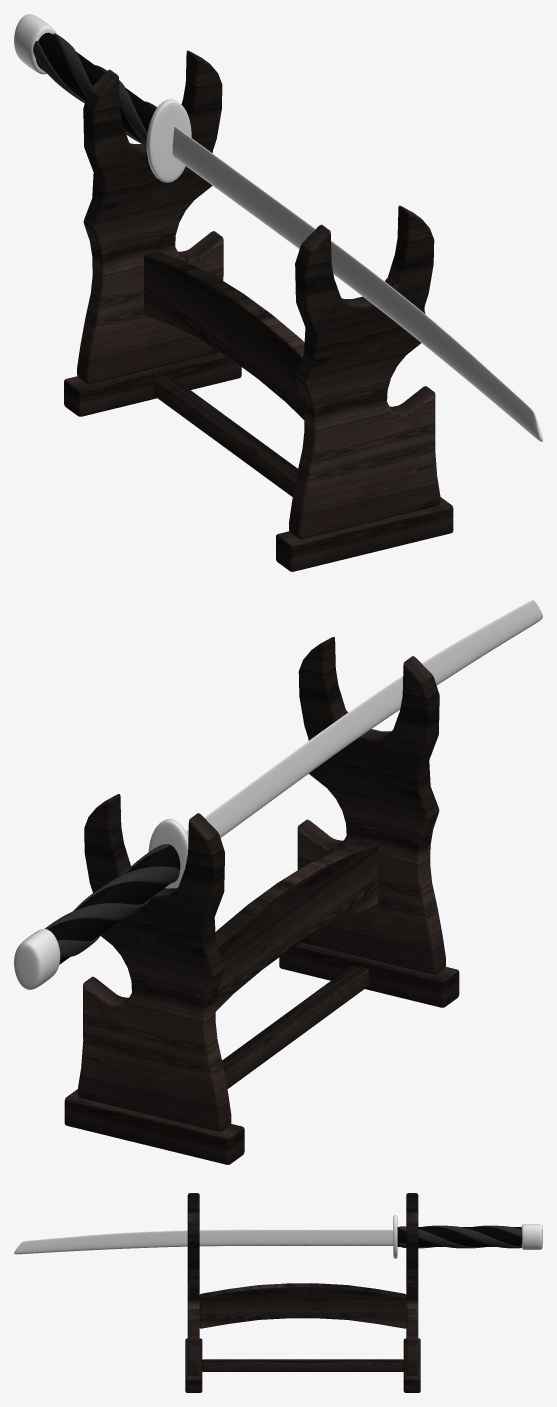
Rendered from katana_decoration_1.glb.
The picture shows the model from 3 angles, top to bottom: view 1: azimuth 30°, elevation 25°; view 2: azimuth 150°, elevation 25°; view 3: azimuth 270°, elevation 25°; orthographic projection. The views are drawn at different scales.
Parts seen in each view (by area): view 1: Katana, Plane.053, Plane.051, Plane.052; view 2: Katana, Plane.053, Plane.051, Plane.052; view 3: Plane.053, Plane.051, Katana, Plane.052.
Part boxes in pixels (x1,y1,x2,y2): Katana: (64,50,453,571); Plane.053: (14,14,542,441); Plane.051: (144,251,304,419); Plane.052: (153,375,297,496); Katana: (64,637,459,1164); Plane.053: (14,600,542,989); Plane.051: (215,840,378,1010); Plane.052: (222,965,368,1088); Plane.053: (14,1215,542,1258); Plane.051: (199,1283,406,1328); Katana: (185,1193,420,1392); Plane.052: (202,1359,403,1371).
Bounding box in the file's own units: 0.3977 × 0.7646 × 2.16.
5 materials, 2 textured.
